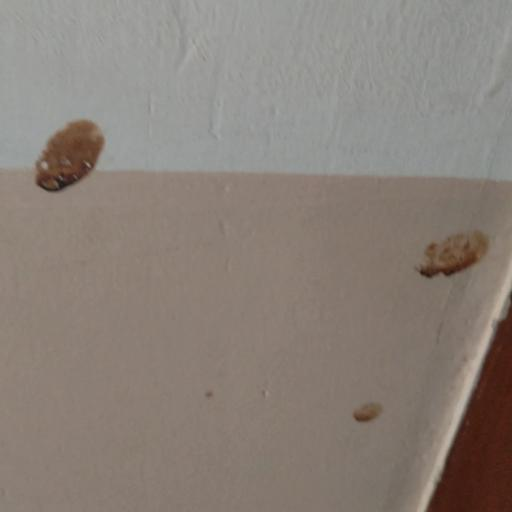stain: (25, 101, 124, 215), (414, 214, 505, 296), (346, 391, 396, 431), (199, 384, 219, 406)
